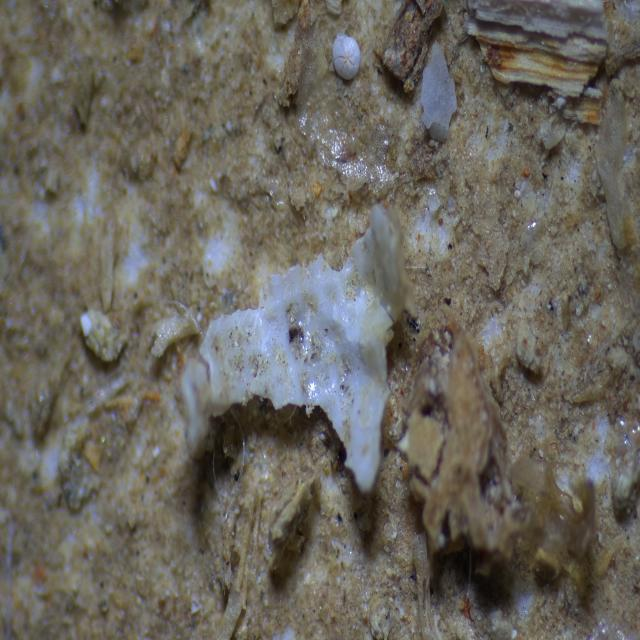microplastic: (186, 185, 414, 492)
